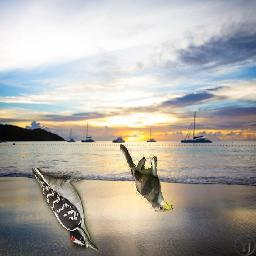Cuckoo: (121, 144, 174, 212)
Woodpecker: (32, 169, 98, 252)
